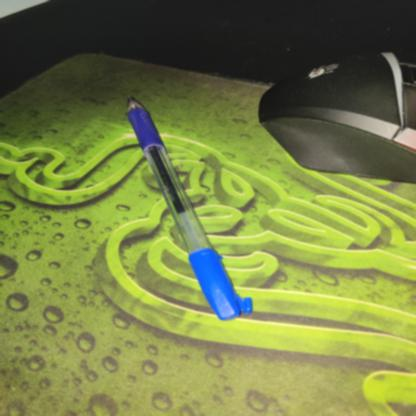pen: (119, 92, 255, 327)
